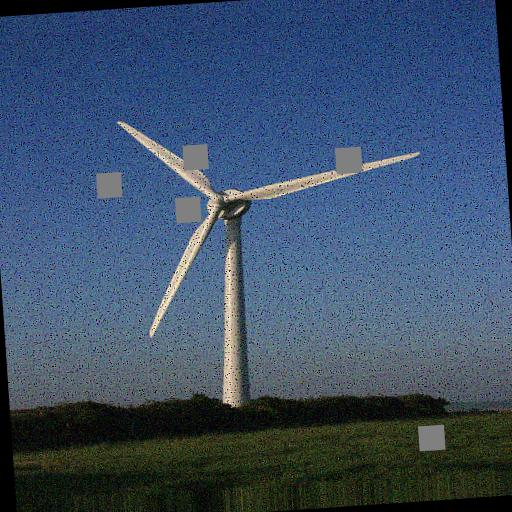wind turbine: (115, 119, 423, 411)
